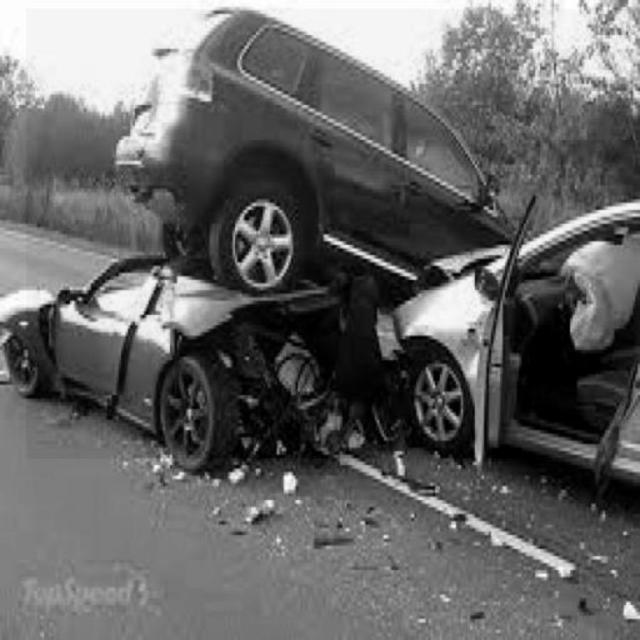accident: (26, 9, 640, 459)
